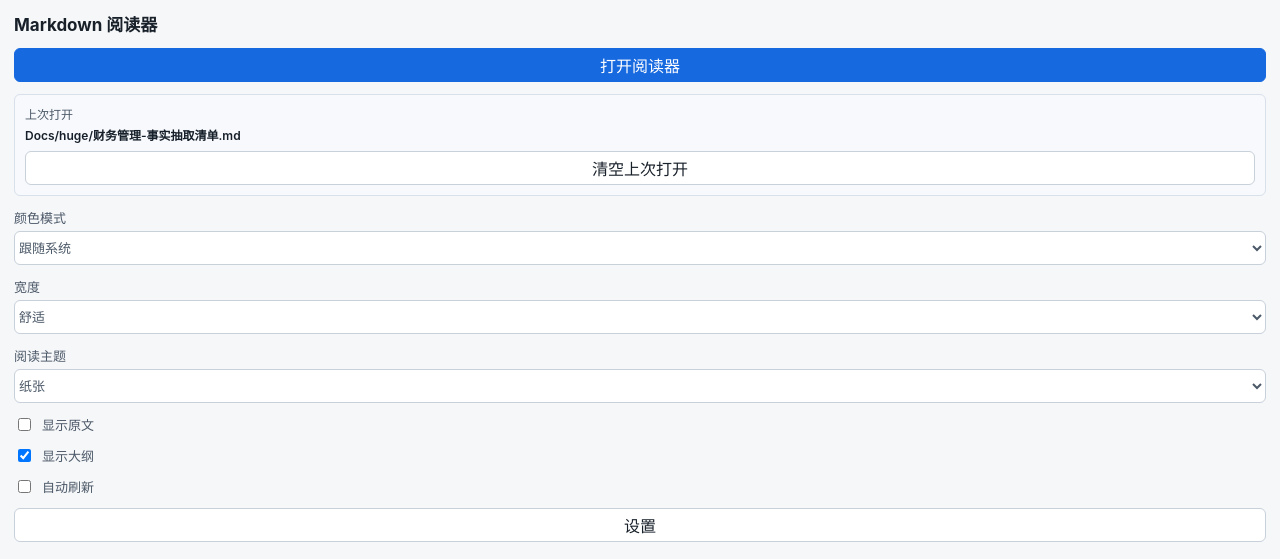
Test: popup App › shows and clears the last opened document
The width and height of the screenshot is (1280, 559).
Check: the text "Docs/huge/财务管理-事实抽取清单.md" is shown, box [25,128,241,143]
What coordinates should you click on to do the following:
click the button "清空上次打开"
I would click on:
 (640, 168)
Its box is [25,151,1255,185].
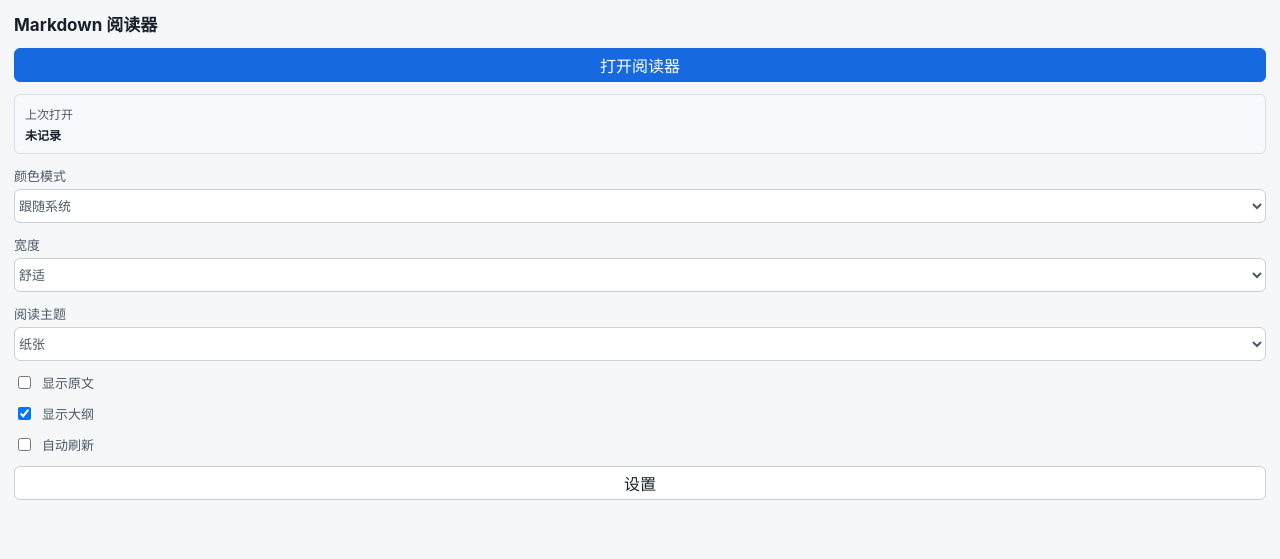
Check: the text "未记录" is shown, box [25,128,61,143]
